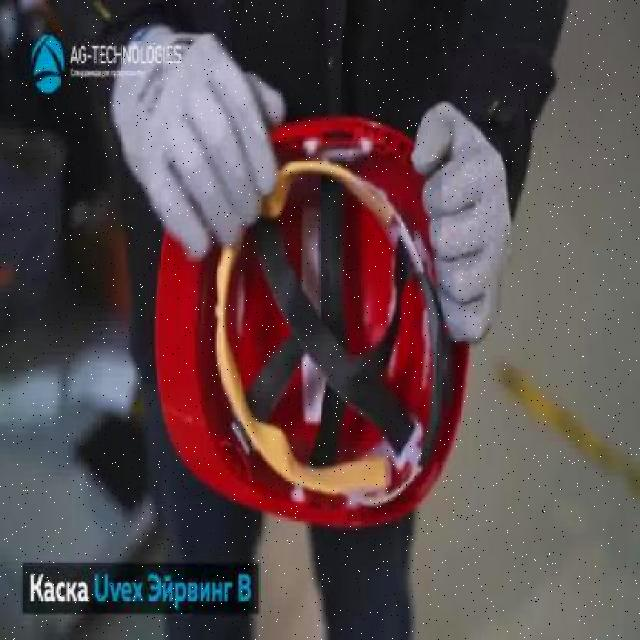Gloves: (110, 19, 287, 262), (410, 103, 516, 346)
Helmet: (152, 113, 472, 532)
